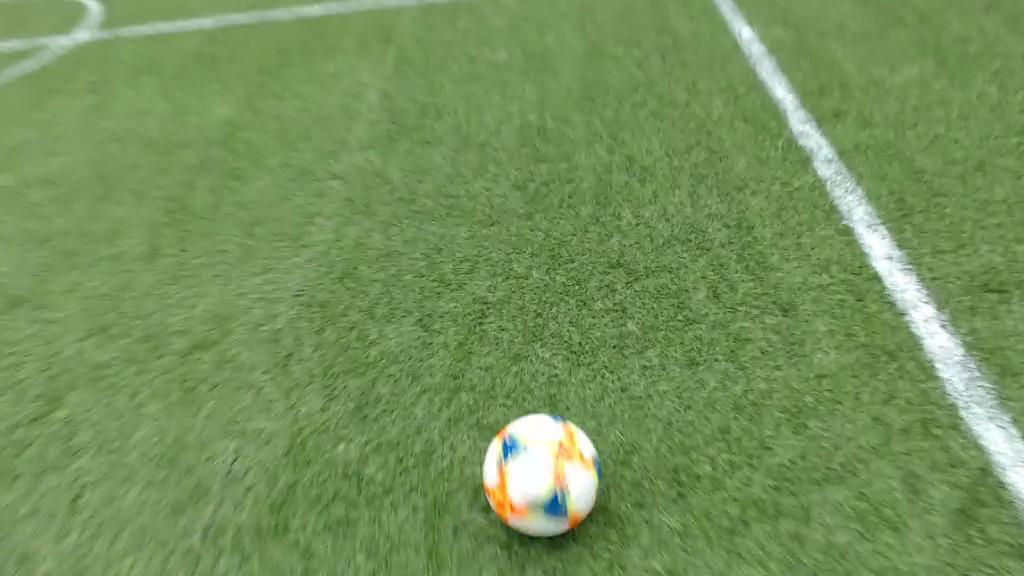ball: (482, 413, 600, 538)
